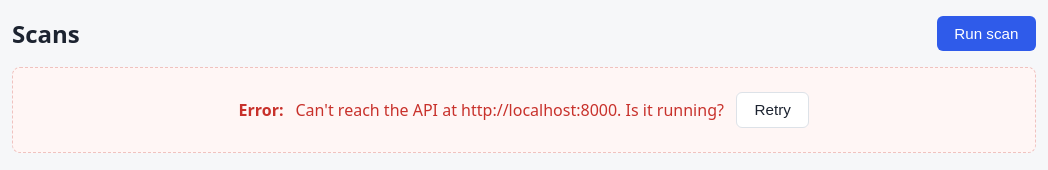
Test: ScansPage › shows an error with retry when the API is down
The image size is (1048, 170).
Expected: the message shows "Can't reach the API", [296, 99, 724, 121]
Click the button "Retry".
click(773, 110)  # box [736, 92, 809, 128]
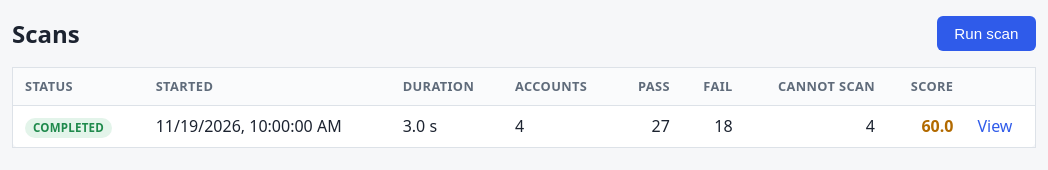
Now the text "60.0" is shown, box [921, 115, 953, 137]
Now the message "Error: Can't reach the API at http://localhost:8000. Is it running? Retry" is gone
